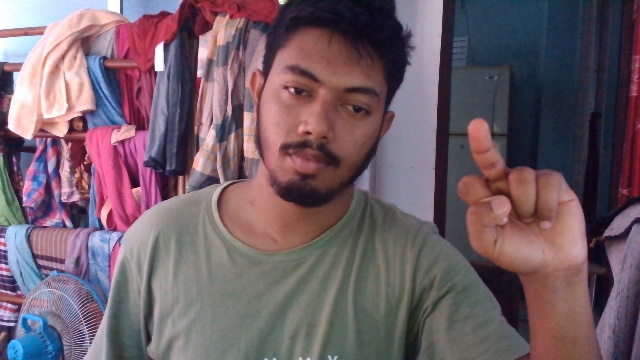fucku: (449, 116, 598, 270)
